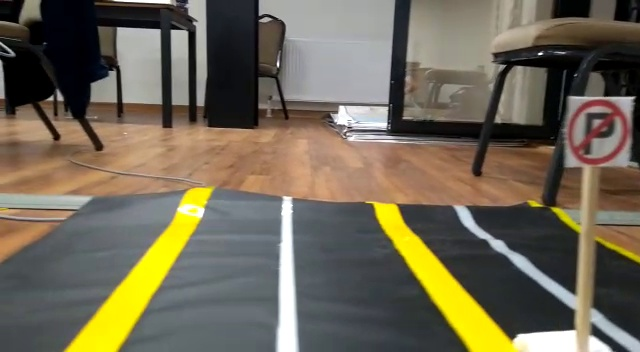park_yapilmaz: (566, 98, 630, 169)
